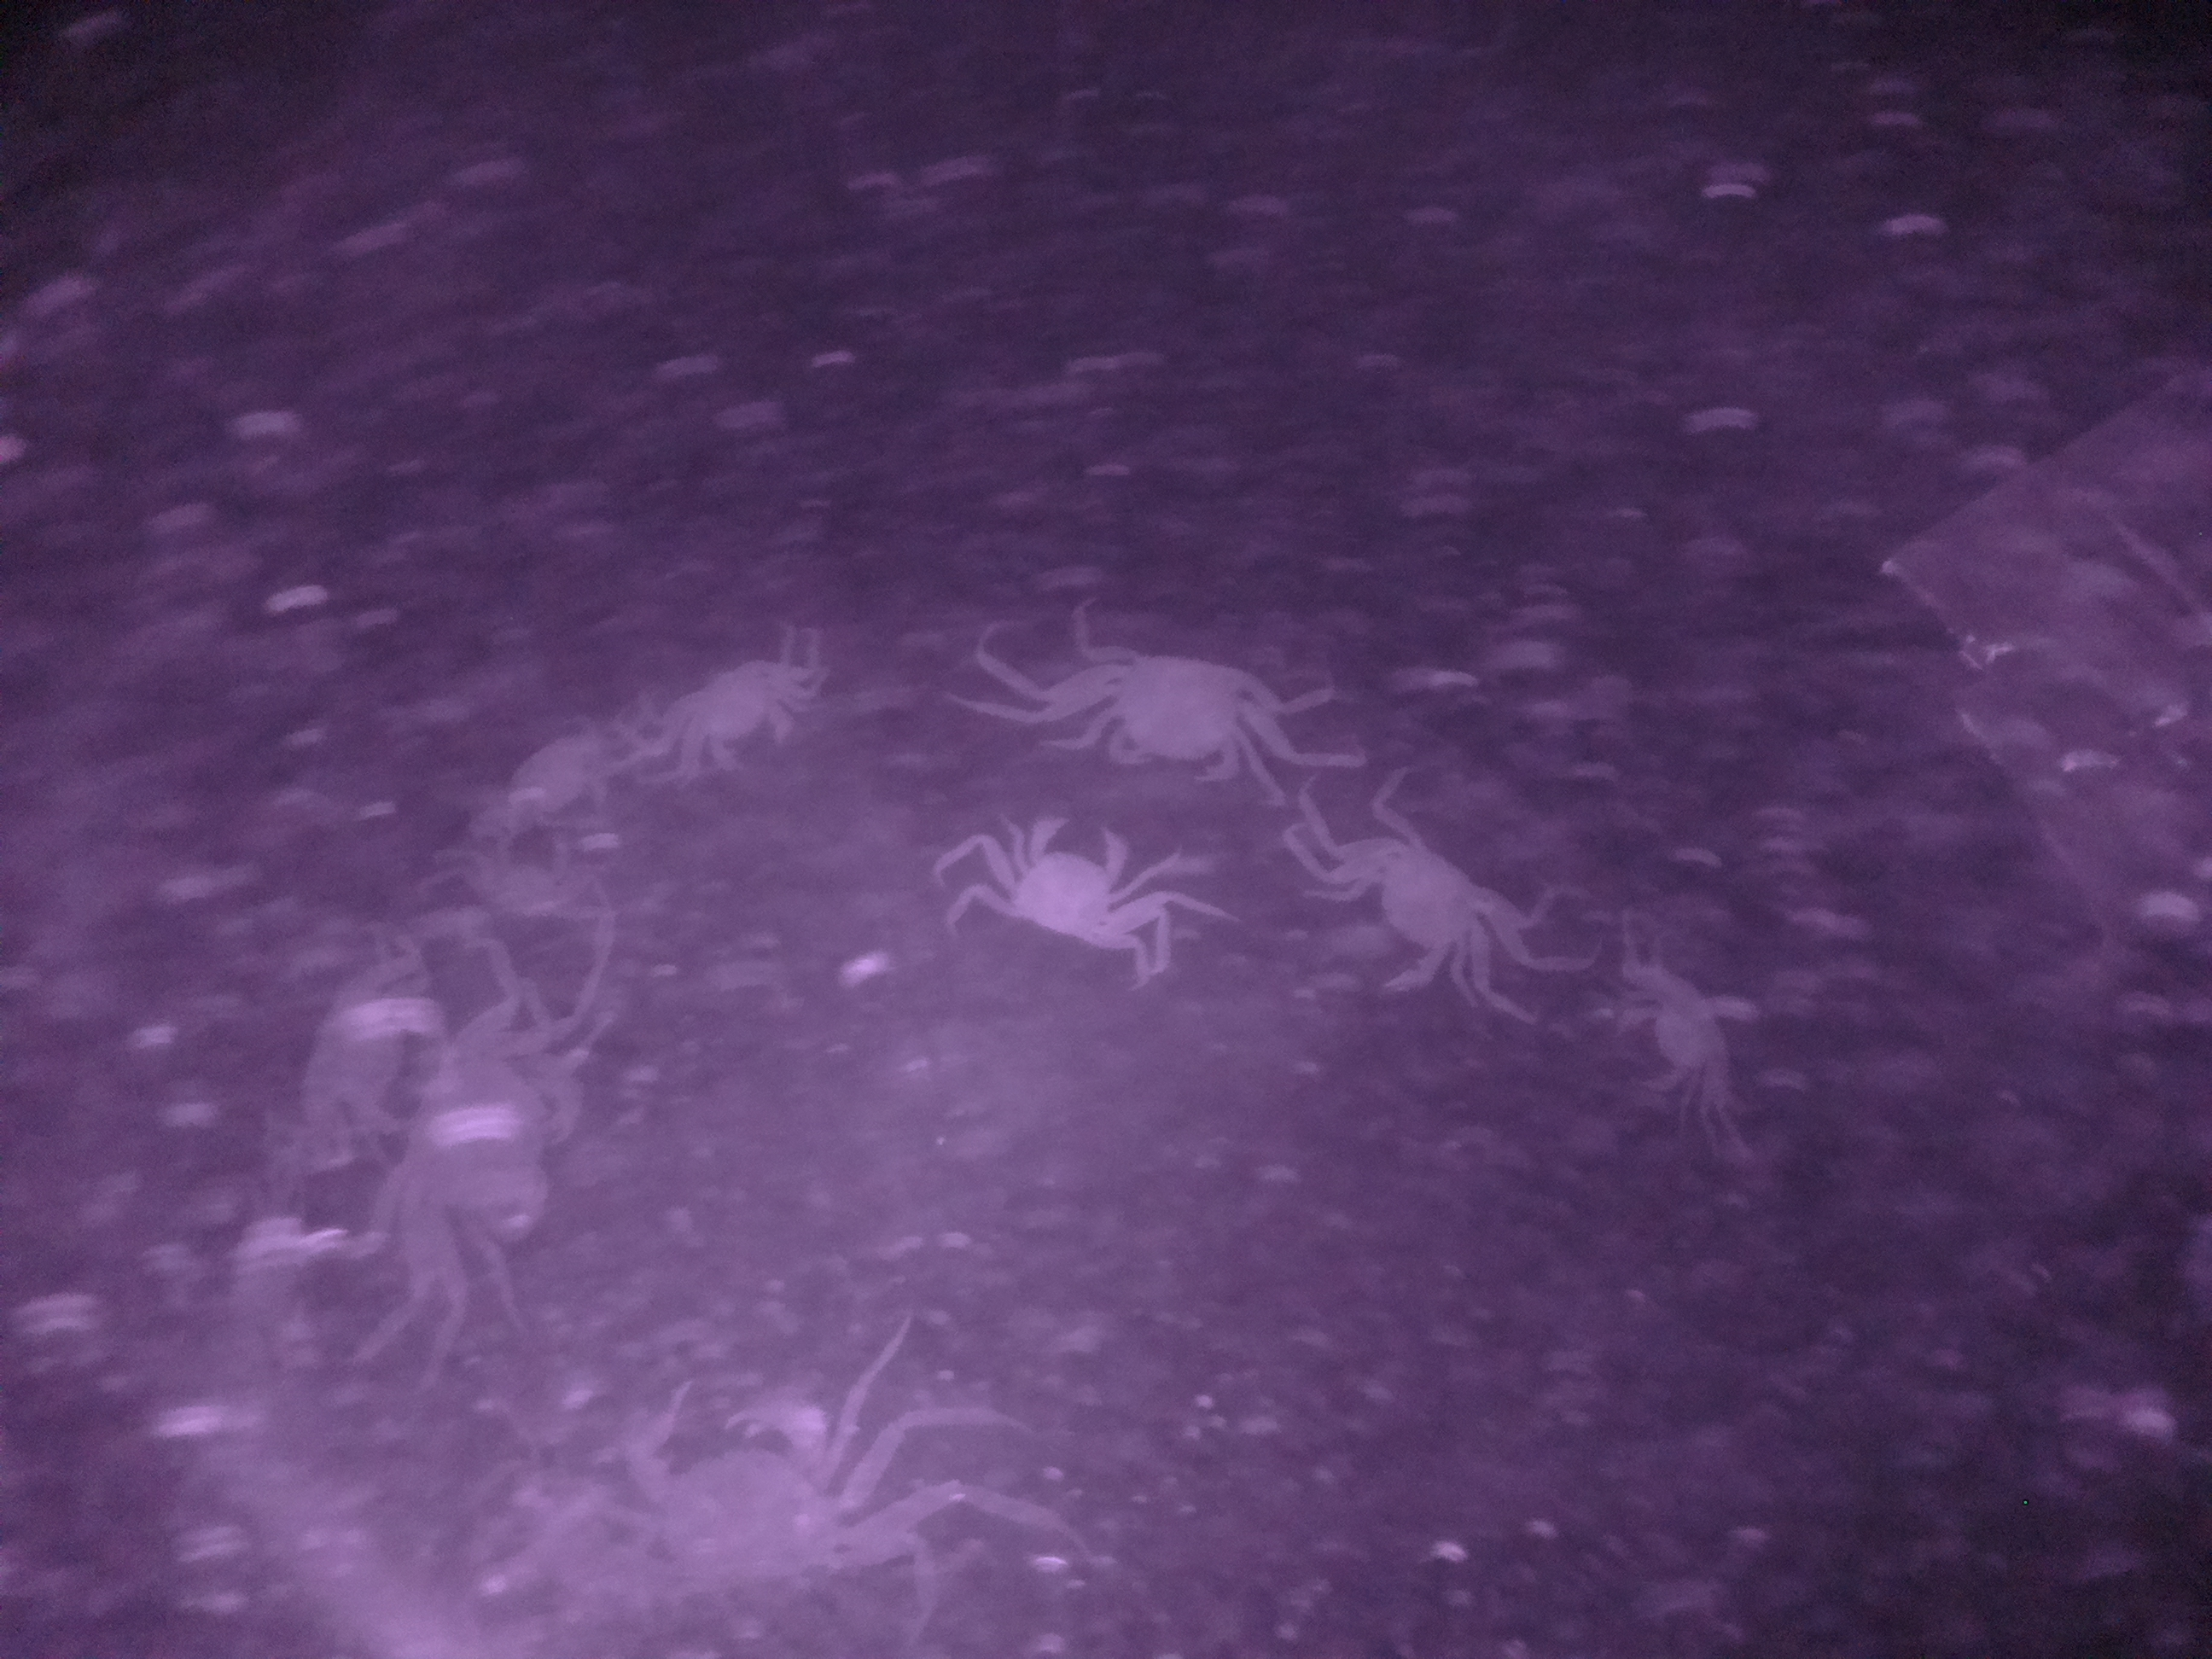Crab: (1047, 624, 1296, 800), (1299, 805, 1550, 976), (970, 795, 1163, 960)
